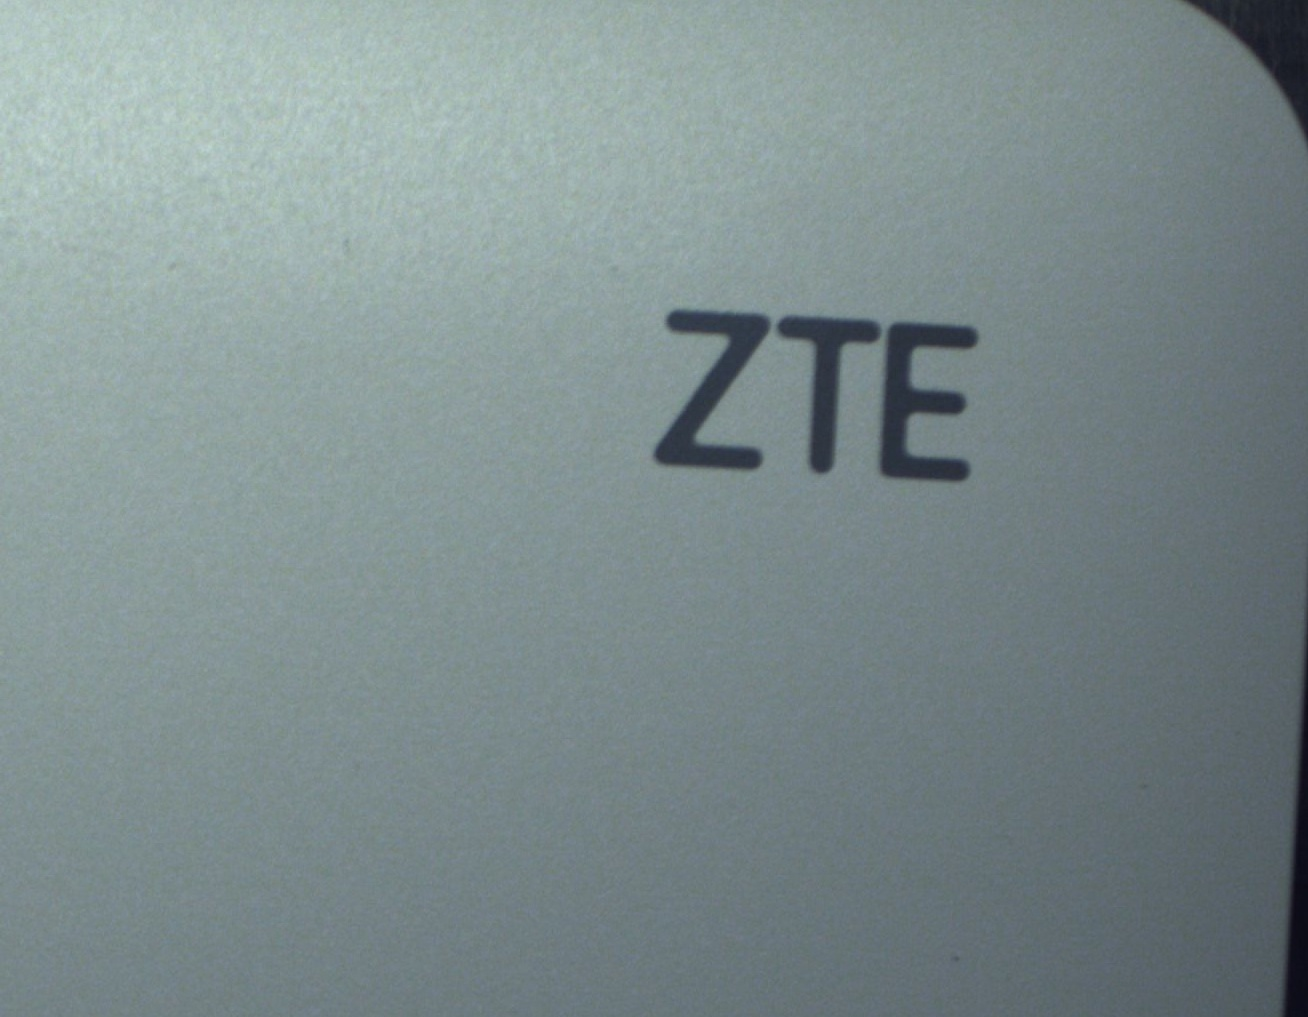AN_ZTE: (605, 287, 1039, 504)
